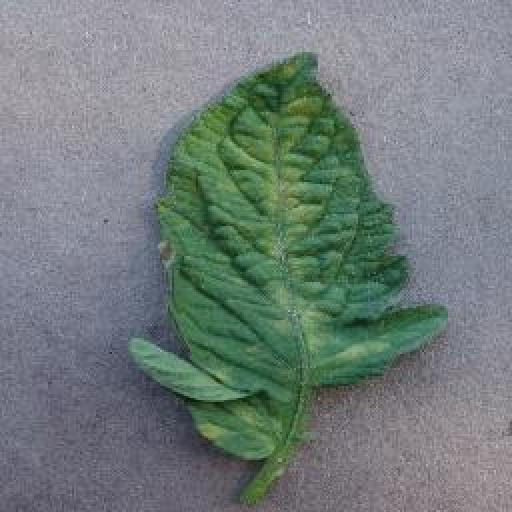Leaf Mold: (130, 50, 448, 462)
